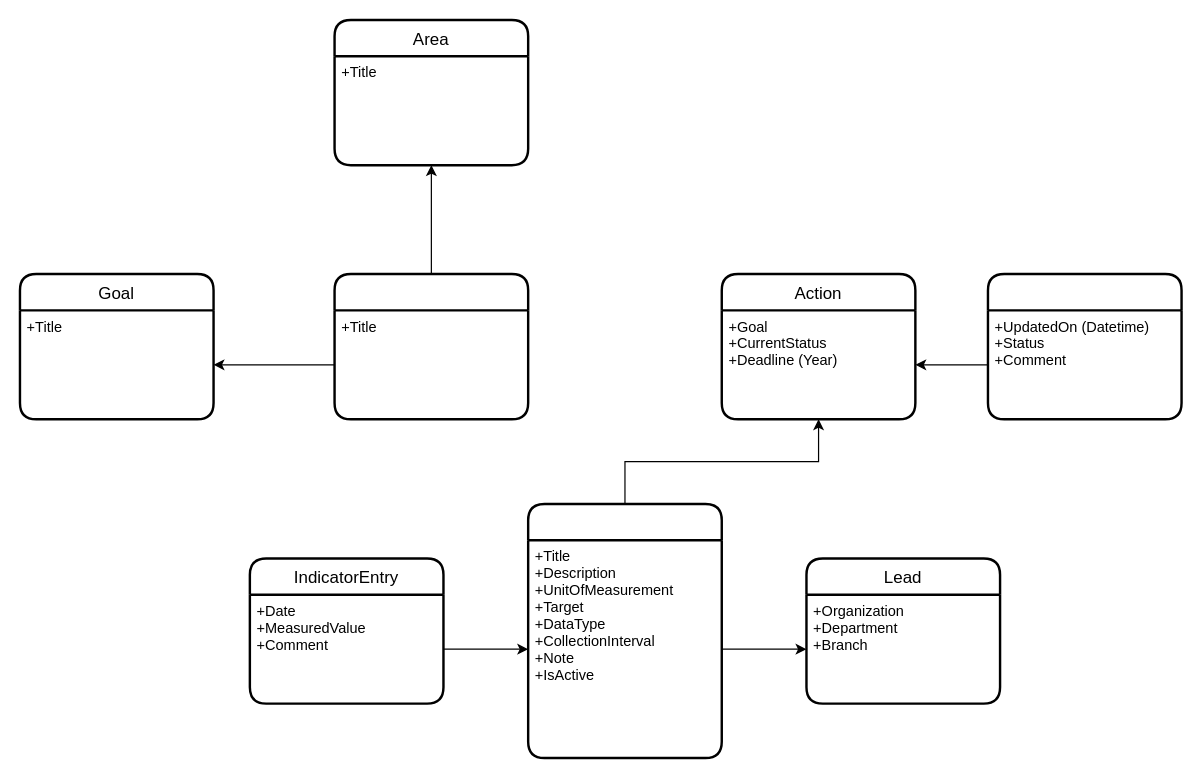
The diagram is 1202 pixels wide and 778 high, and some of its shapes have lost their labels. Each missing label, with the box of its shape:
ActionEntry: (986, 272, 1182, 420)
Indicator: (526, 502, 722, 759)
Objective: (333, 272, 529, 420)
